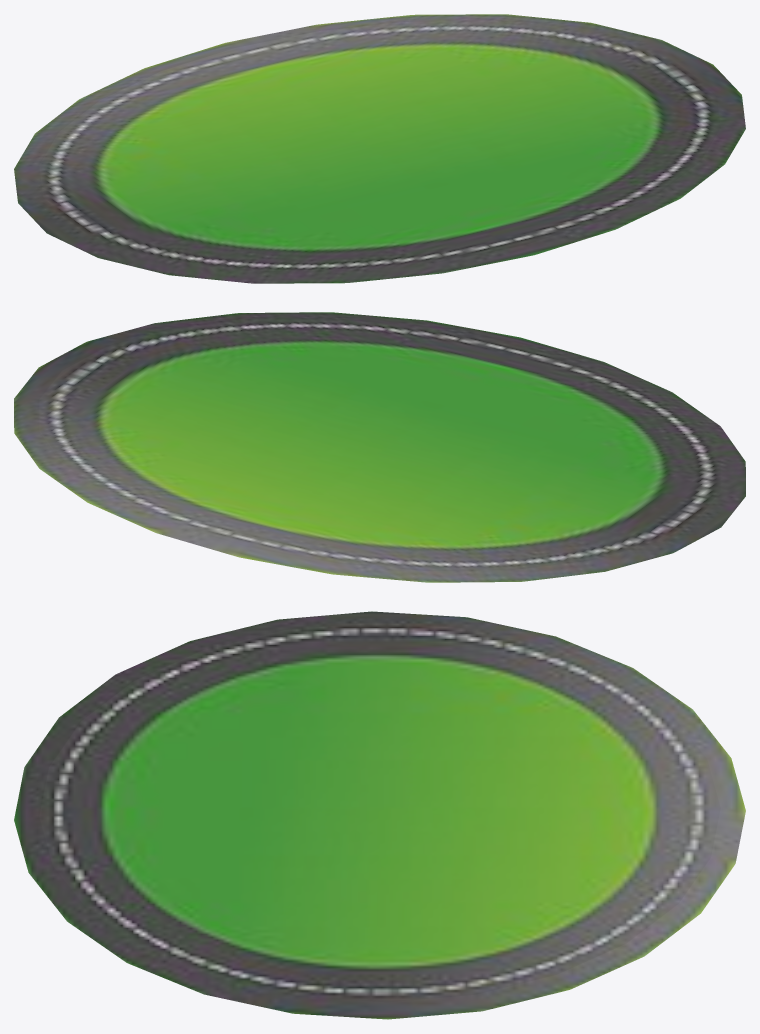
The model's file is round about.fbx.
3 views of the same model, one above another, from view 1: azimuth 30°, elevation 25°; view 2: azimuth 150°, elevation 25°; view 3: azimuth 270°, elevation 25° (orthographic). The views are drawn at different scales.
Parts seen in each view (by area): view 1: Layer0_001; view 2: Layer0_001; view 3: Layer0_001.
Boxes of the visible parts, box(x1,y1,x2,y2) form: Layer0_001: box(14, 14, 745, 283); Layer0_001: box(14, 312, 745, 582); Layer0_001: box(14, 611, 745, 1019).
Size of the model in its own units: 496 by 1.87 by 376.
